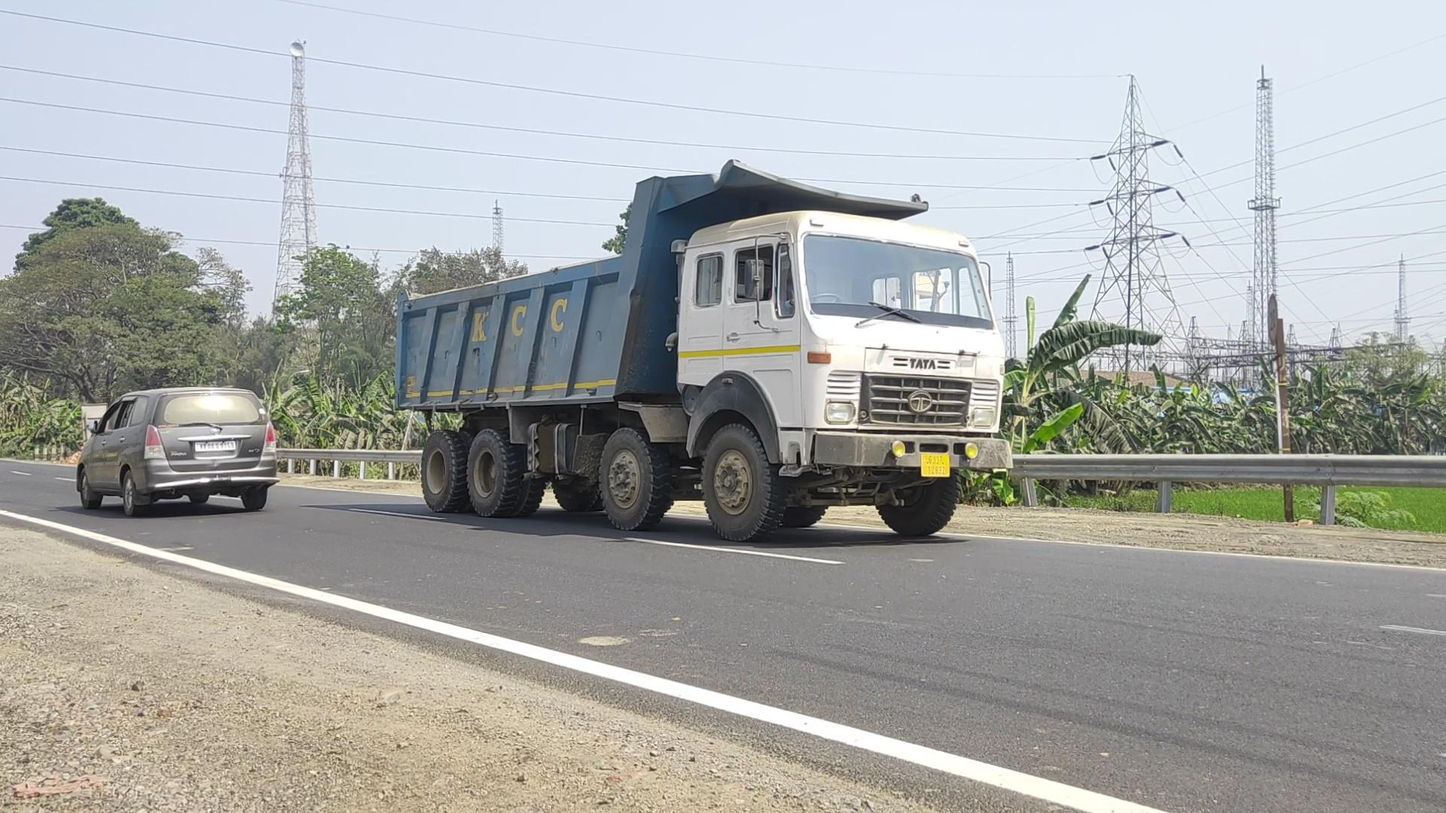car: (77, 386, 280, 516)
truck: (395, 157, 1014, 544)
